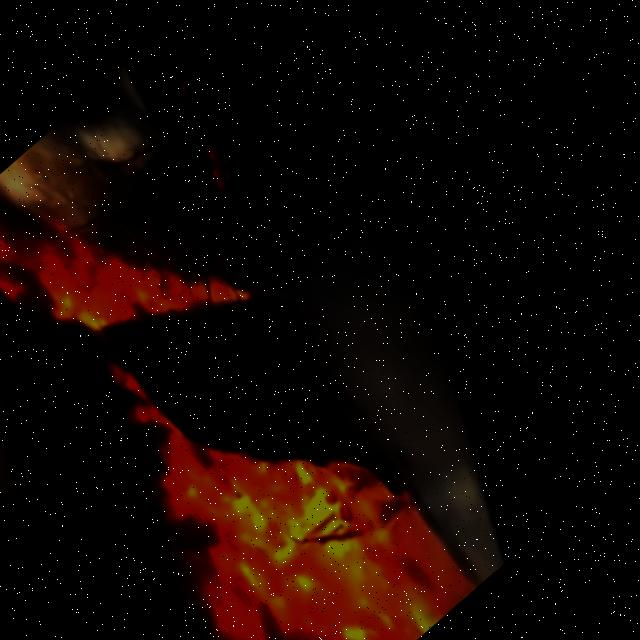Fire: (104, 342, 506, 640), (0, 93, 280, 446)
Smoke: (0, 322, 341, 640), (0, 262, 198, 557)
